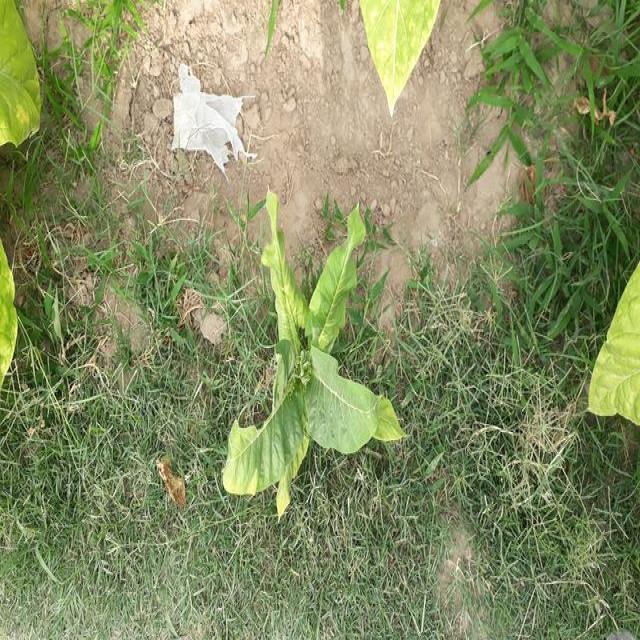crop: (218, 208, 408, 509), (359, 0, 443, 117), (590, 270, 640, 432)
